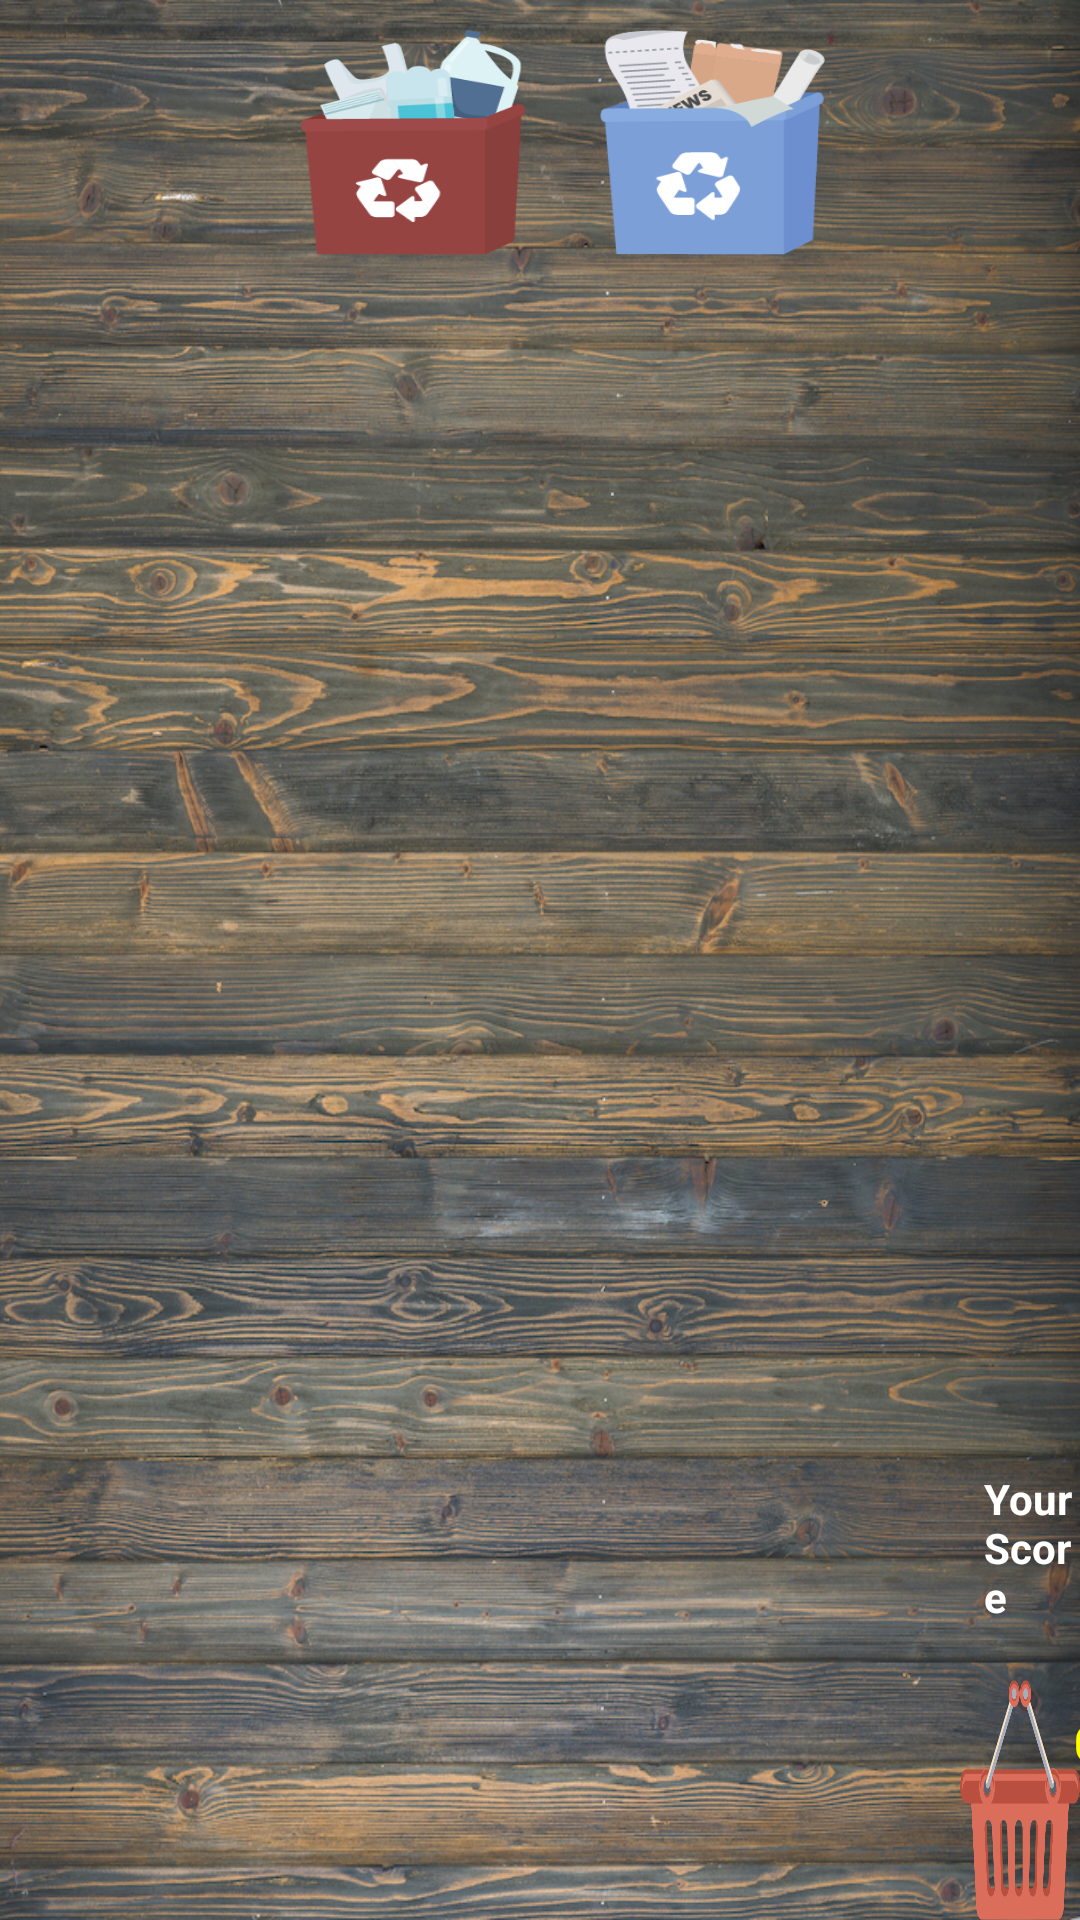

Icon bounding boxes for this 1080 x 1920 phone screenshot, format (x1, y1, x2, y2):
basket: (960, 1680, 1080, 1920)
paper: (600, 30, 825, 255)
plastic: (300, 30, 525, 255)
